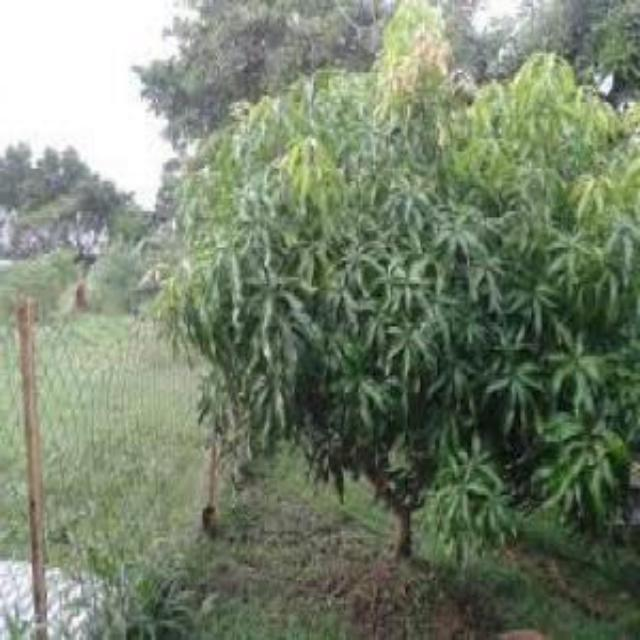tree: (167, 30, 625, 544)
